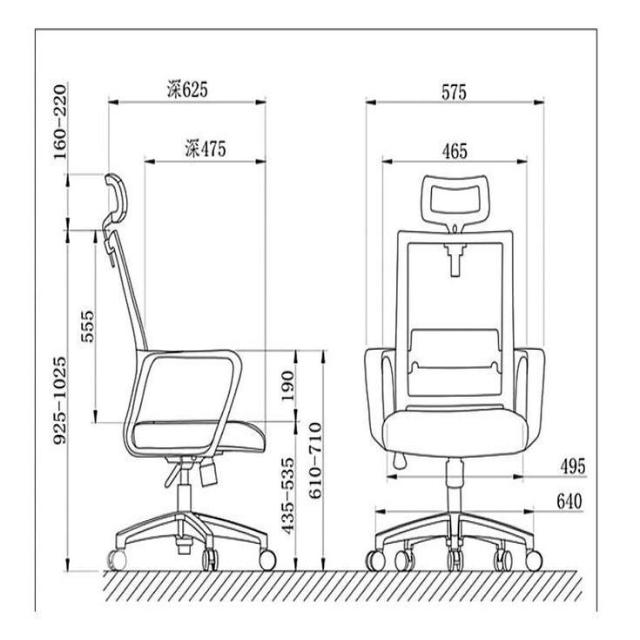5_Star_Base: (359, 502, 552, 580), (104, 503, 284, 579)
Armrest: (114, 344, 254, 462), (360, 342, 402, 460), (509, 342, 551, 457)
Backrest: (390, 223, 519, 416), (98, 222, 155, 357)
Base: (163, 449, 197, 518), (439, 452, 471, 518)
Control_Mechanism: (158, 458, 203, 493)
Headrest: (415, 166, 495, 236), (92, 165, 134, 233)
Seat: (380, 401, 534, 461), (129, 415, 270, 460)
